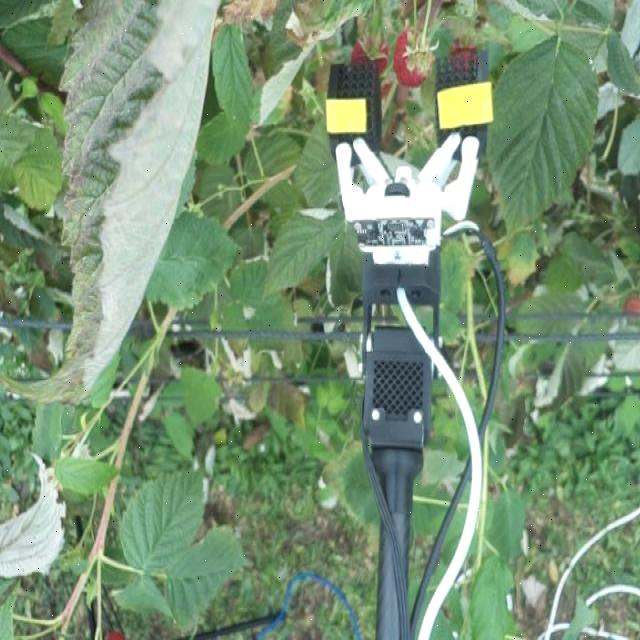Riped berries: (391, 24, 428, 88), (352, 27, 391, 76)
